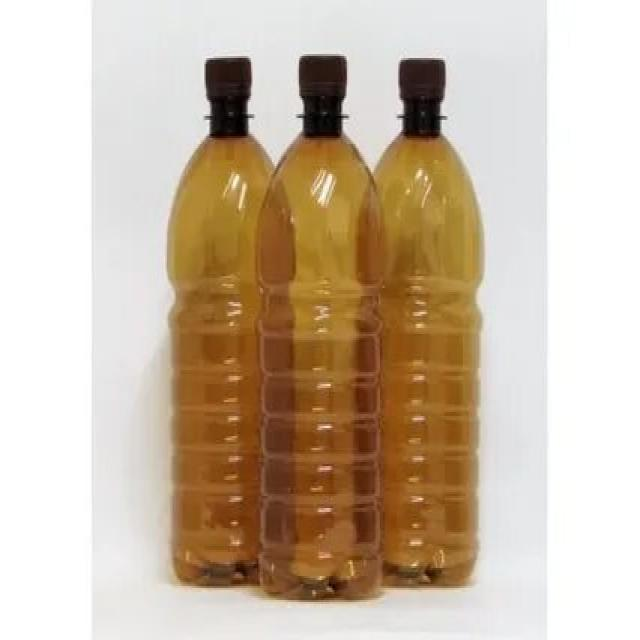brown: (262, 107, 384, 600), (384, 117, 484, 588), (167, 111, 259, 586)
